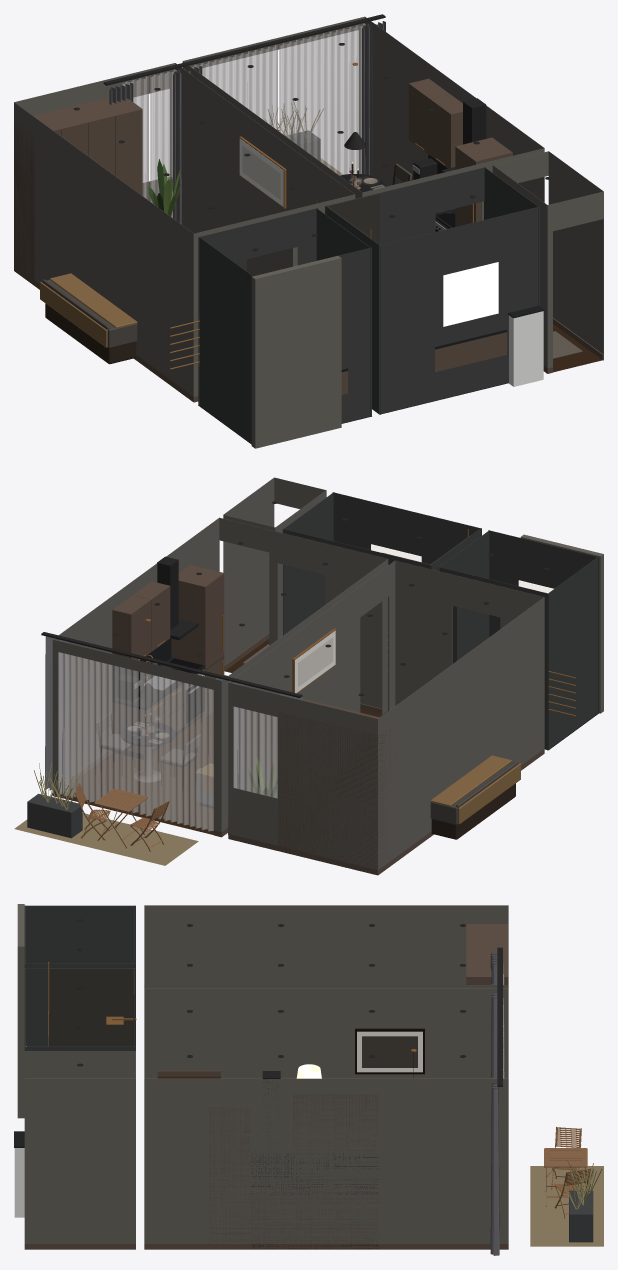
The model's file is unit-1.A-noir.glb.
3 renders of one model, top to bottom at view 1: azimuth 30°, elevation 25°; view 2: azimuth 150°, elevation 25°; view 3: azimuth 270°, elevation 25°, orthographic. The views are drawn at different scales.
Visible parts, largest first — view 1: int-wall, int-bathWall, int-sheer, int-joineryTall, int-joinery, int-curtain, int-matteBlack, int-ledStrip, int-bedThrow, int-whiteGloss, int-headboard, int-showerWall (+7 smaller); view 2: int-wall, int-bathWall, int-sheer, int-joineryTall, int-floor, int-joinery, int-curtain, int-matteBlack, int-deck, int-bedThrow, int-skirting, int-outdoor (+14 smaller); view 3: int-wall, int-bathWall, int-showerWall, int-deck, int-joineryTall, int-joinery, int-skirting, int-curtain, int-art:7:0, int-matteBlack, int-outdoor, int-passepartout (+7 smaller).
Part boxes in pixels (left/top/right/bottom): int-wall: left=14, top=16, right=603, bottom=448; int-bathWall: left=198, top=167, right=539, bottom=443; int-sheer: left=122, top=23, right=365, bottom=217; int-joineryTall: left=14, top=97, right=512, bottom=394; int-joinery: left=408, top=78, right=462, bottom=229; int-curtain: left=109, top=21, right=385, bottom=224; int-matteBlack: left=103, top=14, right=486, bottom=214; int-ledStrip: left=443, top=262, right=498, bottom=326; int-bedThrow: left=40, top=273, right=137, bottom=347; int-whiteGloss: left=509, top=311, right=543, bottom=386; int-headboard: left=45, top=303, right=136, bottom=364; int-showerWall: left=325, top=193, right=379, bottom=244; int-wall: left=52, top=477, right=603, bottom=869; int-bathWall: left=282, top=492, right=599, bottom=750; int-sheer: left=58, top=652, right=277, bottom=831; int-joineryTall: left=171, top=564, right=396, bottom=874; int-floor: left=60, top=675, right=381, bottom=834; int-joinery: left=112, top=581, right=203, bottom=754; int-curtain: left=45, top=636, right=303, bottom=834; int-matteBlack: left=41, top=556, right=302, bottom=759; int-deck: left=14, top=813, right=198, bottom=865; int-bedThrow: left=430, top=755, right=520, bottom=824; int-skirting: left=52, top=633, right=544, bottom=875; int-outdoor: left=27, top=793, right=82, bottom=838; int-wall: left=17, top=904, right=508, bottom=1243; int-bathWall: left=24, top=905, right=135, bottom=1050; int-showerWall: left=48, top=968, right=135, bottom=1046; int-deck: left=530, top=1166, right=603, bottom=1246; int-joineryTall: left=209, top=924, right=508, bottom=1248; int-joinery: left=250, top=1094, right=378, bottom=1243; int-skirting: left=24, top=1070, right=508, bottom=1249; int-curtain: left=490, top=952, right=499, bottom=1255; int-art:7:0: left=362, top=1036, right=417, bottom=1067; int-matteBlack: left=251, top=947, right=502, bottom=1249; int-outdoor: left=569, top=1190, right=593, bottom=1242; int-passepartout: left=357, top=1031, right=422, bottom=1072.
Bounding box in the file's own units: 6.62 × 2.8 × 8.41.
